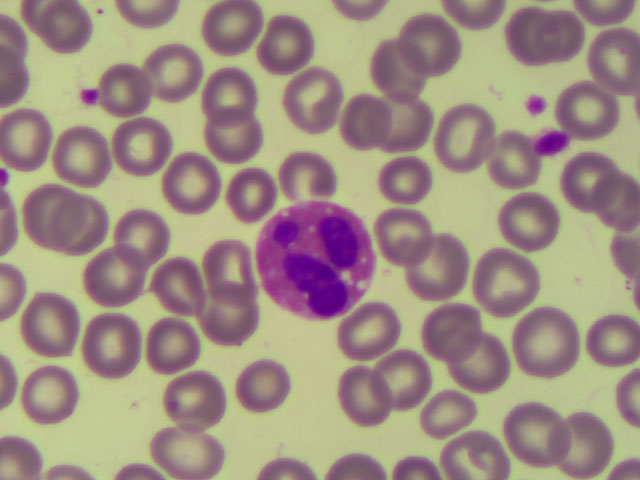Platelets: (535, 126, 568, 158), (516, 93, 555, 117), (82, 83, 105, 109)
RBC: (452, 424, 512, 480), (35, 3, 95, 58), (57, 127, 117, 182), (26, 189, 86, 244), (55, 197, 115, 252), (105, 204, 165, 259), (85, 245, 145, 300), (20, 293, 80, 348), (22, 371, 82, 426), (80, 318, 140, 373), (140, 315, 200, 370), (152, 262, 212, 317), (204, 284, 264, 339), (199, 233, 259, 288), (162, 151, 222, 206), (111, 123, 171, 178), (108, 66, 168, 121), (149, 34, 209, 89), (197, 1, 257, 56), (200, 67, 260, 122), (202, 115, 262, 170), (254, 21, 314, 76), (282, 74, 342, 129), (326, 91, 386, 146), (280, 139, 340, 194), (222, 162, 282, 217), (361, 149, 421, 204), (381, 89, 441, 144), (374, 38, 434, 93), (402, 15, 462, 70), (435, 109, 495, 164), (375, 207, 435, 262), (408, 239, 468, 294), (433, 317, 493, 372), (344, 306, 404, 361), (383, 355, 443, 410), (345, 370, 405, 425), (239, 363, 299, 418), (172, 370, 232, 425), (153, 420, 213, 475), (414, 388, 474, 443), (446, 338, 506, 393), (506, 313, 566, 368), (475, 246, 535, 301), (495, 190, 555, 245), (486, 145, 546, 200), (562, 148, 622, 203), (580, 172, 640, 227), (580, 297, 640, 352), (556, 413, 616, 468), (505, 403, 565, 458), (1, 108, 60, 163)
WBC: (259, 202, 381, 318)
